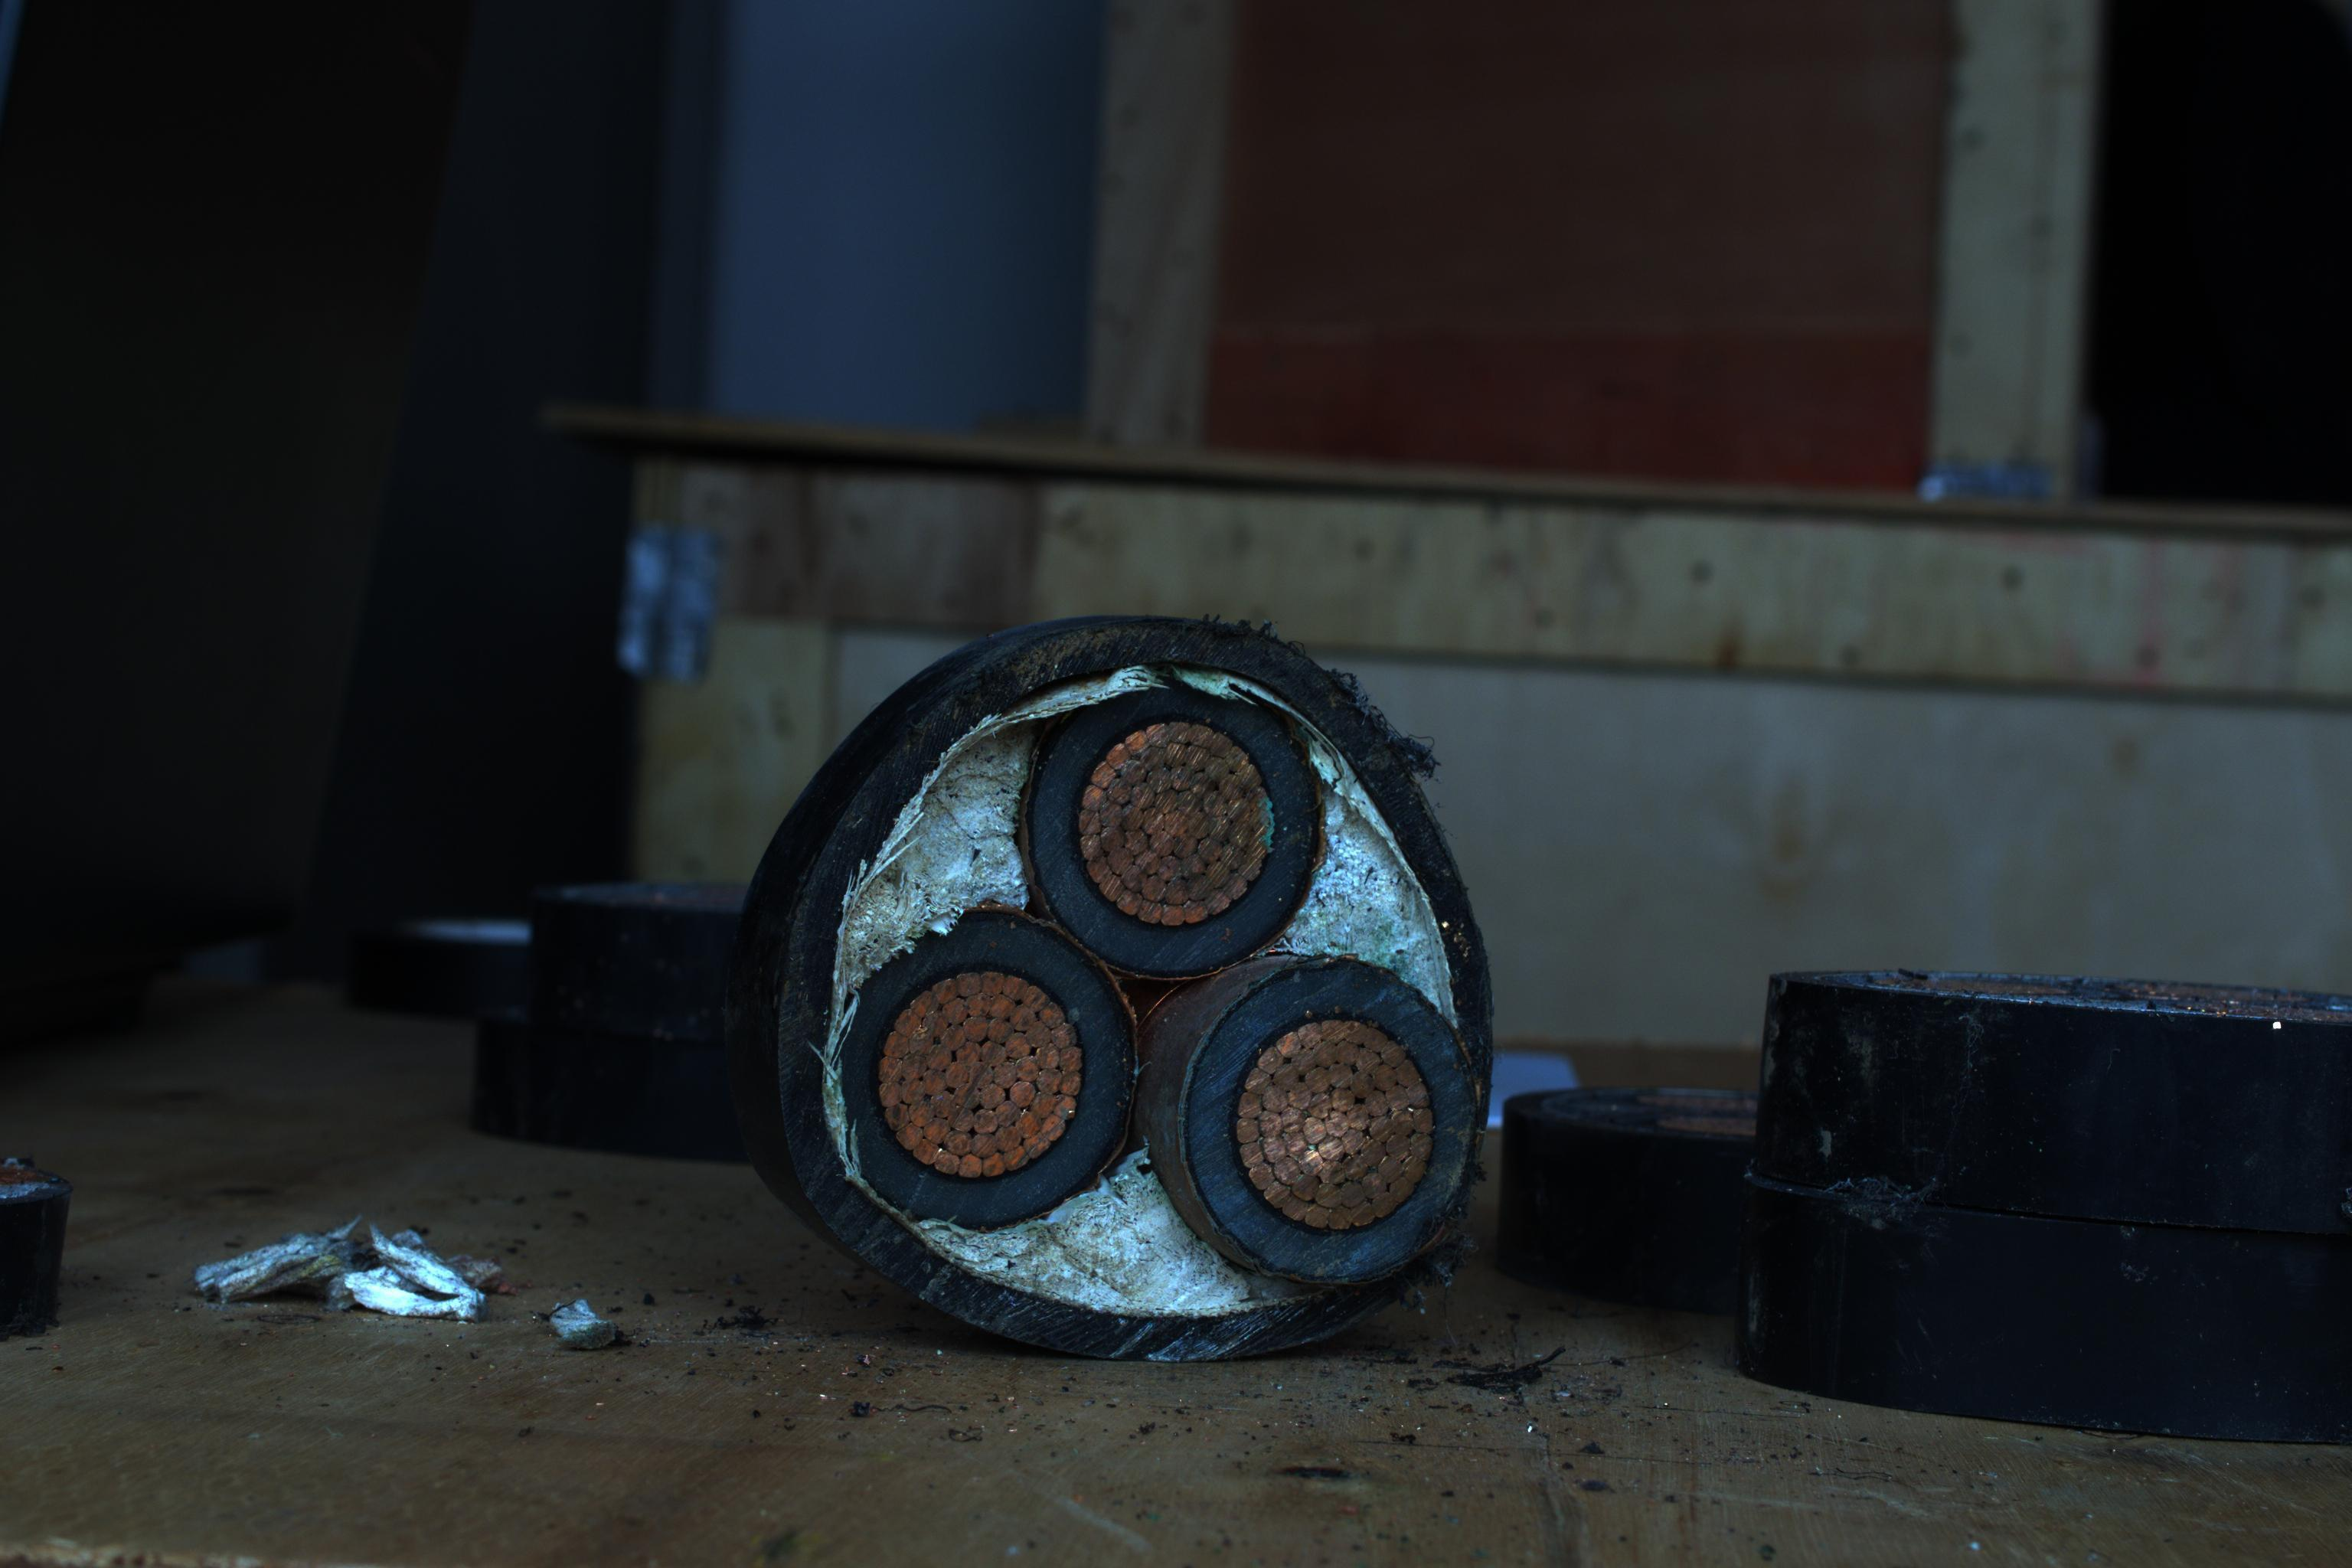ZA_YJV_8.7_10kV_3x400: (787, 586, 1505, 1354)
